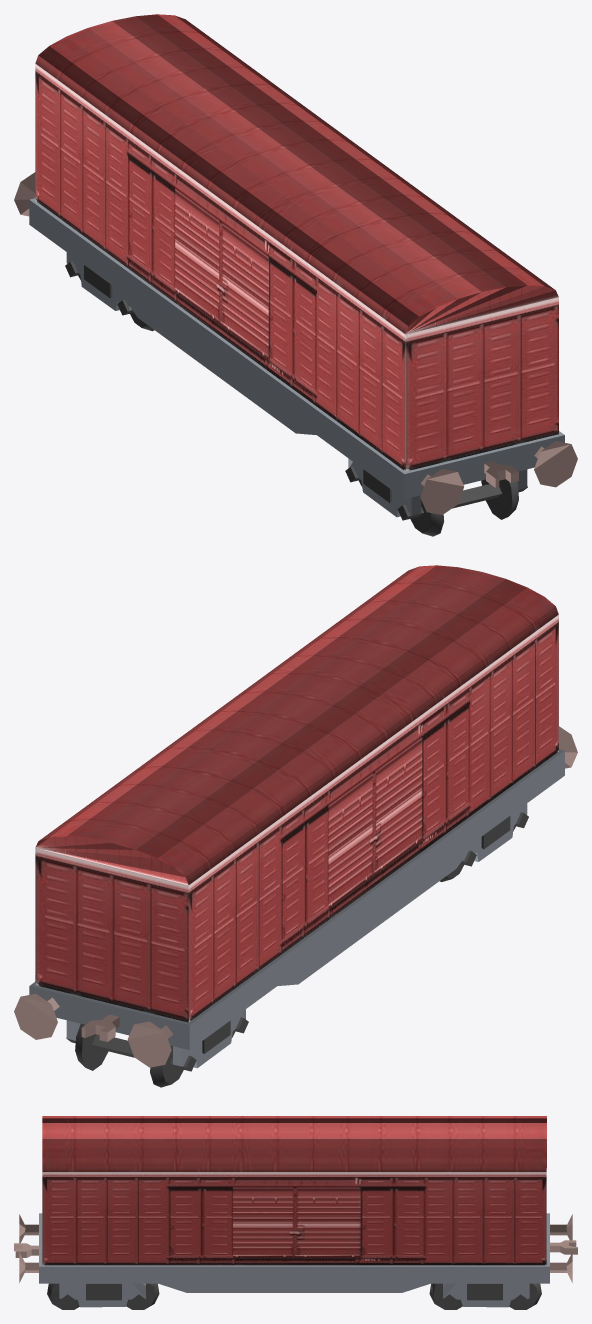
File: boxcar.dae
3 renders of one model, top to bottom at view 1: azimuth 30°, elevation 25°; view 2: azimuth 150°, elevation 25°; view 3: azimuth 270°, elevation 25°, orthographic. The views are drawn at different scales.
Parts seen in each view (by area): view 1: 9.0.242.0_Pts_Material_Surf, 9.0.242.0_Pts_Material__4__Surf, 9.0.242.0_Pts_Material__2__Surf, 9.0.242.0_Pts_Material__3__Surf; view 2: 9.0.242.0_Pts_Material_Surf, 9.0.242.0_Pts_Material__4__Surf, 9.0.242.0_Pts_Material__2__Surf, 9.0.242.0_Pts_Material__3__Surf; view 3: 9.0.242.0_Pts_Material_Surf, 9.0.242.0_Pts_Material__4__Surf, 9.0.242.0_Pts_Material__3__Surf, 9.0.242.0_Pts_Material__2__Surf.
Boxes of the visible parts, bbox=[...] form: 9.0.242.0_Pts_Material_Surf: bbox=[35, 14, 558, 471]; 9.0.242.0_Pts_Material__4__Surf: bbox=[29, 198, 564, 517]; 9.0.242.0_Pts_Material__2__Surf: bbox=[14, 172, 577, 514]; 9.0.242.0_Pts_Material__3__Surf: bbox=[65, 261, 527, 536]; 9.0.242.0_Pts_Material_Surf: bbox=[35, 565, 558, 1022]; 9.0.242.0_Pts_Material__4__Surf: bbox=[29, 749, 564, 1068]; 9.0.242.0_Pts_Material__2__Surf: bbox=[14, 726, 577, 1067]; 9.0.242.0_Pts_Material__3__Surf: bbox=[66, 812, 528, 1087]; 9.0.242.0_Pts_Material_Surf: bbox=[42, 1116, 546, 1265]; 9.0.242.0_Pts_Material__4__Surf: bbox=[39, 1213, 549, 1307]; 9.0.242.0_Pts_Material__3__Surf: bbox=[47, 1283, 541, 1309]; 9.0.242.0_Pts_Material__2__Surf: bbox=[14, 1214, 577, 1282].
Size of the model in its own units: 32.06 by 47.16 by 143.
4 materials, 1 textured.
